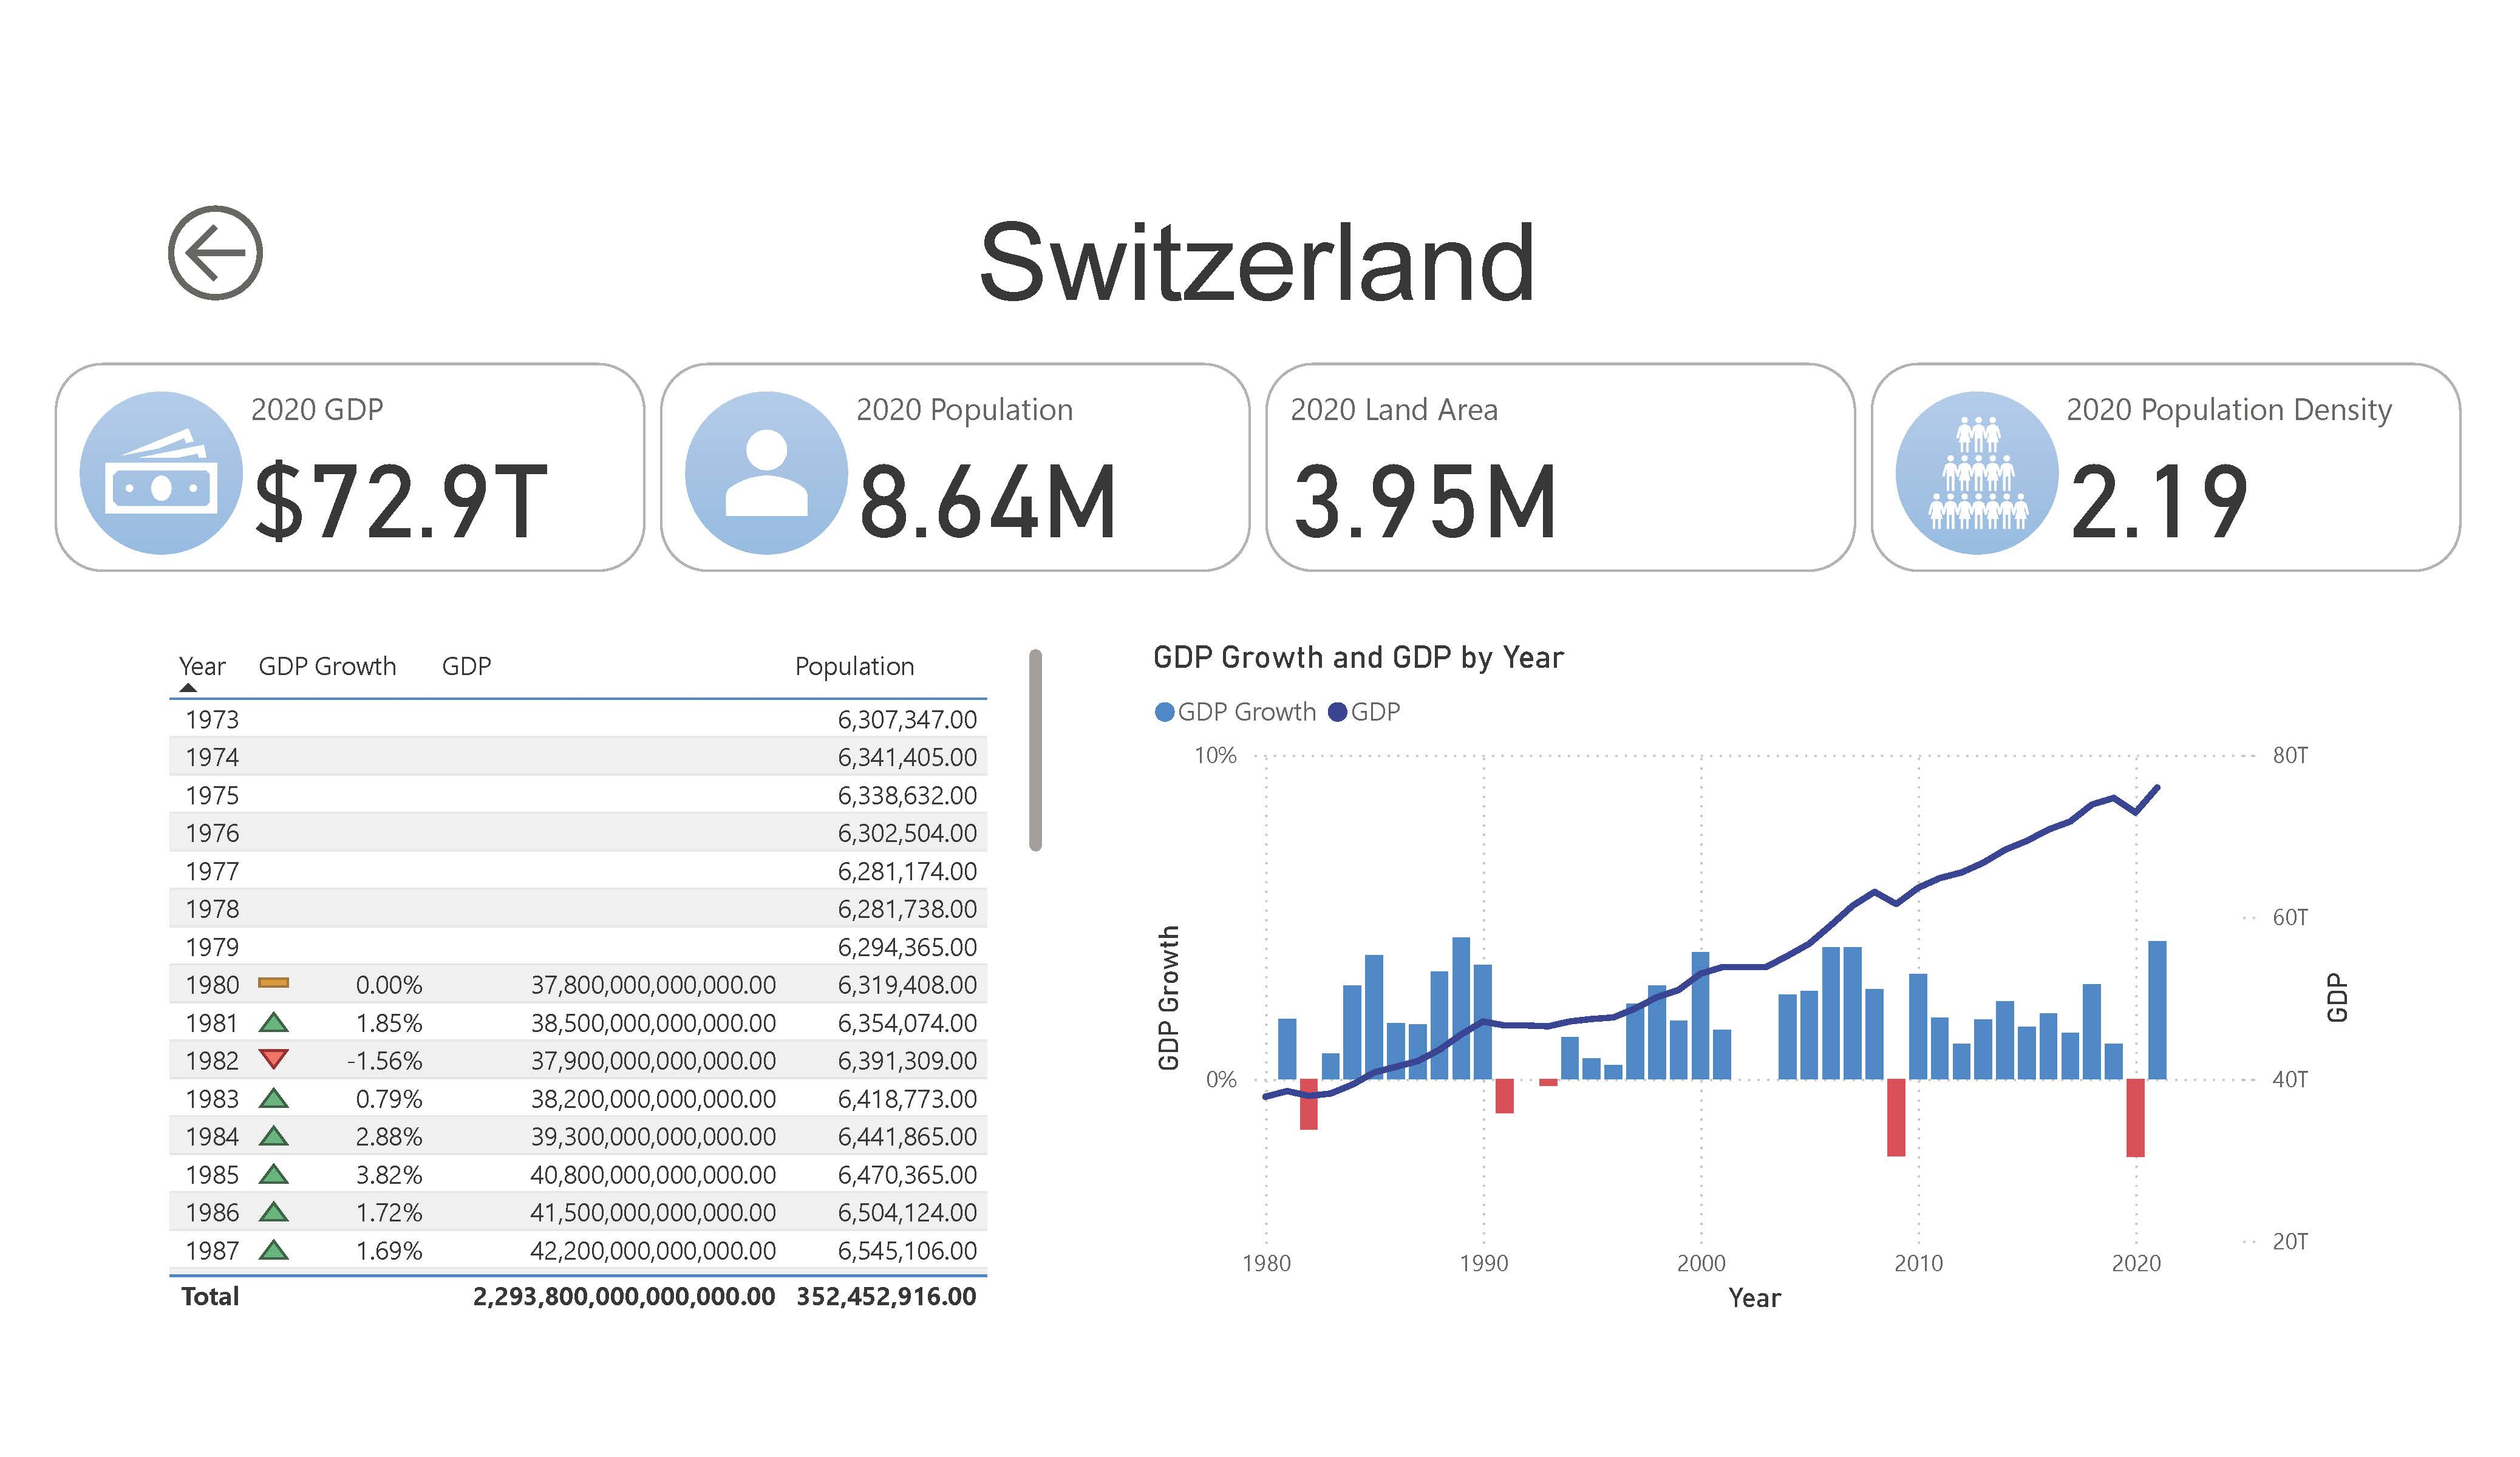

Layout of this report page (visuals, bound fields, positions):
{"tool":"powerbi","page":{"name":"Drill Trough","canvas":[1280,720],"ordinal":2},"visuals":[{"type":"actionButton","box":[58.3,78.3,70,63.3],"z":0},{"type":"tableEx","fields":{"Values":["Year.Year","Year.GDP Growth","Year.GDP","Year.Population"]},"box":[58.9,311.3,471.5,361.4],"z":1000},{"type":"lineClusteredColumnComboChart","fields":{"Category":["Year.Year"],"Y":["Year.GDP Growth"],"Y2":["Year.GDP"]},"box":[578.5,311.3,640.9,361.4],"z":2000},{"type":"card","fields":{"Values":["Year.Drill Trough"]},"box":[304.9,67.8,667.8,83.3],"z":3000},{"type":"cardVisual","fields":{"Data":["Year.2020 GDP","Year.2020 Population","Year.2020 Land Area","Year.2020 Population Density"]},"box":[0,162.4,1280,120],"z":4000}]}

Visuals, with their boxes in screenshot pixels (x1, y1, x2, y2):
actionButton: [left=156, top=194, right=289, bottom=314]
tableEx - Year.Year x Year.GDP Growth: [left=157, top=636, right=1052, bottom=1322]
lineClusteredColumnComboChart - Year.Year x Year.GDP Growth: [left=1143, top=636, right=2360, bottom=1322]
card - Year.Drill Trough: [left=624, top=174, right=1892, bottom=332]
cardVisual - Year.2020 GDP x Year.2020 Population: [left=46, top=353, right=2474, bottom=581]
